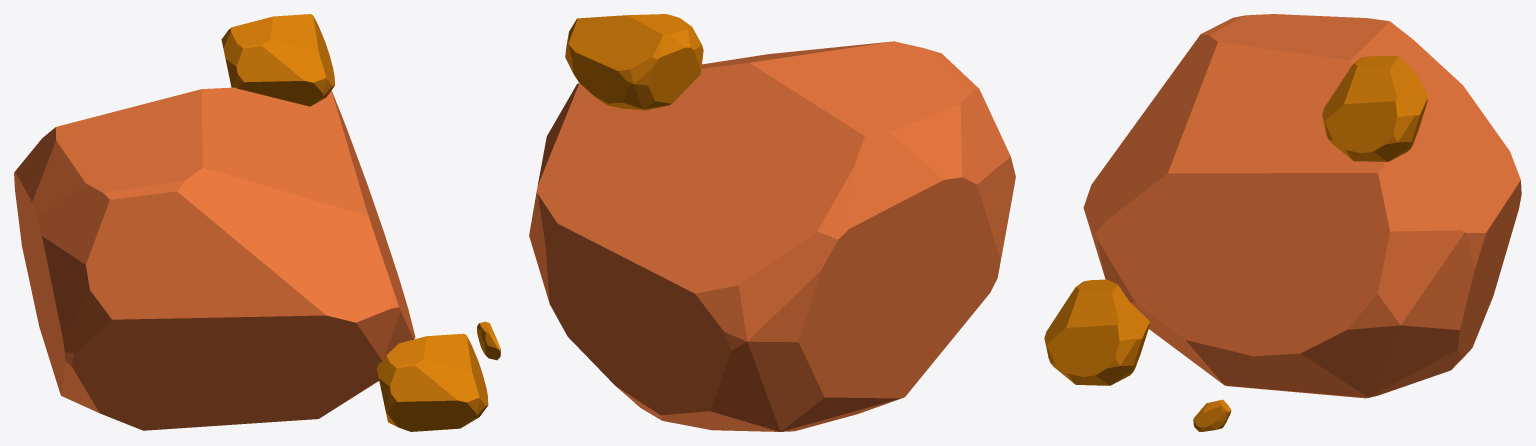
The model's file is rock5.fbx.
3 renders of one model, left to right at view 1: azimuth 30°, elevation 25°; view 2: azimuth 150°, elevation 25°; view 3: azimuth 270°, elevation 25°, orthographic. The views are drawn at different scales.
Visible parts, largest first — view 1: Icosphere.009, Icosphere.008, Icosphere.012, Icosphere.007; view 2: Icosphere.009, Icosphere.012; view 3: Icosphere.009, Icosphere.012, Icosphere.008, Icosphere.007.
Boxes of the visible parts, x1=… form: Icosphere.009: x1=14, y1=87, x2=415, y2=430; Icosphere.008: x1=376, y1=333, x2=488, y2=431; Icosphere.012: x1=221, y1=14, x2=334, y2=106; Icosphere.007: x1=477, y1=321, x2=500, y2=360; Icosphere.009: x1=529, y1=41, x2=1015, y2=431; Icosphere.012: x1=565, y1=14, x2=703, y2=110; Icosphere.009: x1=1083, y1=14, x2=1521, y2=398; Icosphere.012: x1=1322, y1=56, x2=1427, y2=161; Icosphere.008: x1=1044, y1=279, x2=1149, y2=385; Icosphere.007: x1=1193, y1=399, x2=1231, y2=431.
Bounding box in the file's own units: 268 × 211 × 274.
